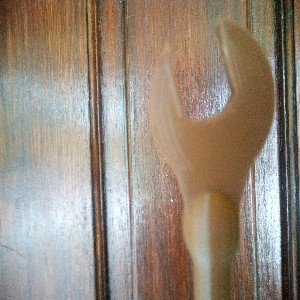spanner: (148, 18, 275, 300)
